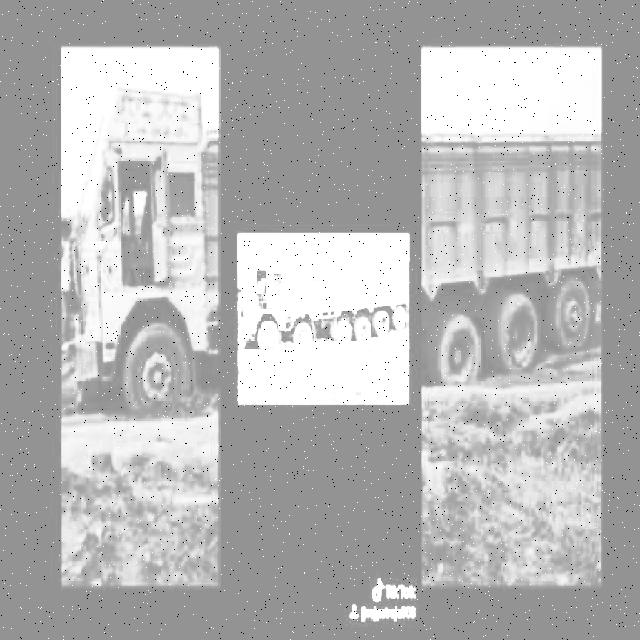HCV: (423, 111, 619, 393), (75, 92, 223, 420), (254, 246, 410, 367)
